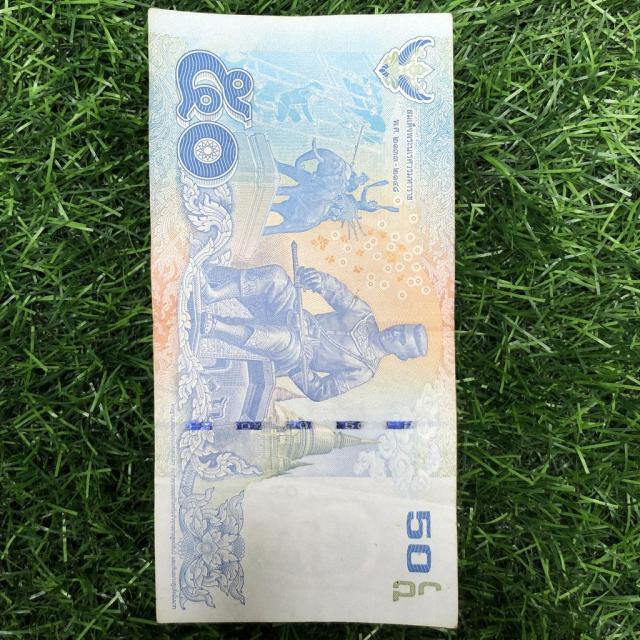THAI50: (149, 9, 457, 627)
